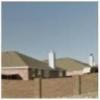chimneys: (48, 48, 56, 68), (90, 52, 94, 69)
